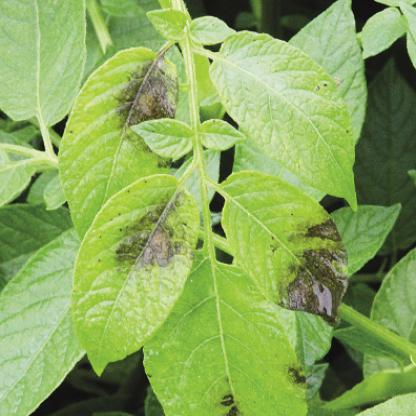potato leaf late blight: (68, 173, 200, 377), (62, 41, 181, 240), (216, 174, 346, 328)
